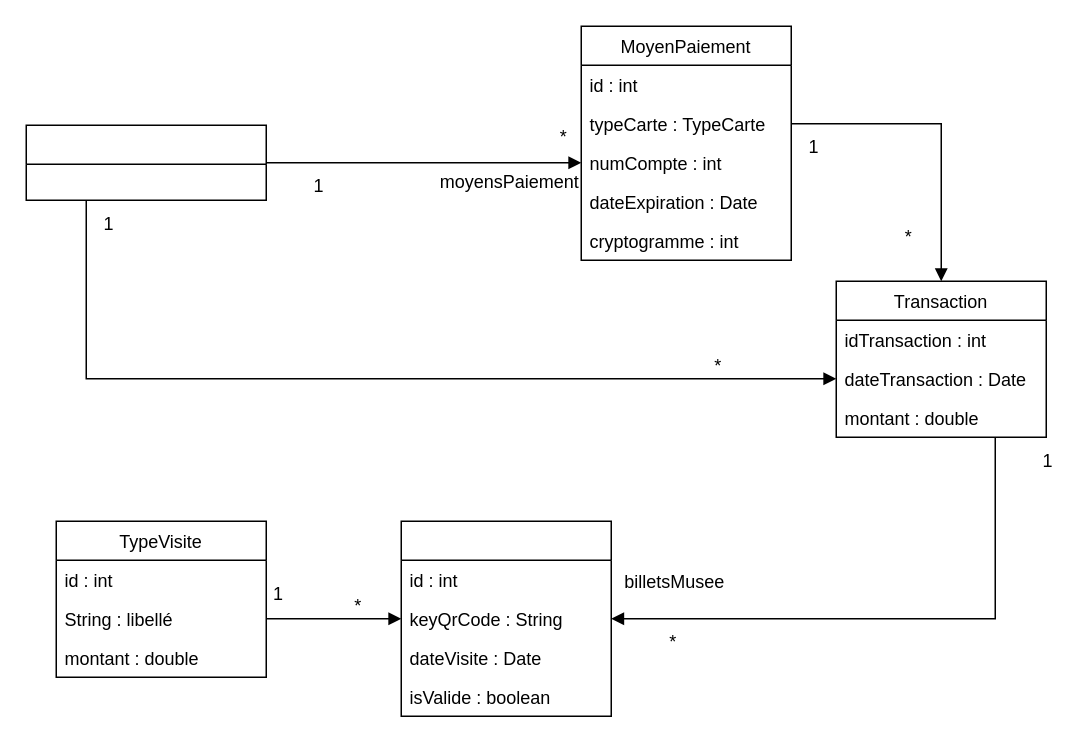
This 1080x747 diagram has some shape labels left out. Here are the shapes that lost their labels. From the top down, the box of each, then its label:
(25, 124, 266, 200): User
(400, 520, 611, 716): BilletMusee
